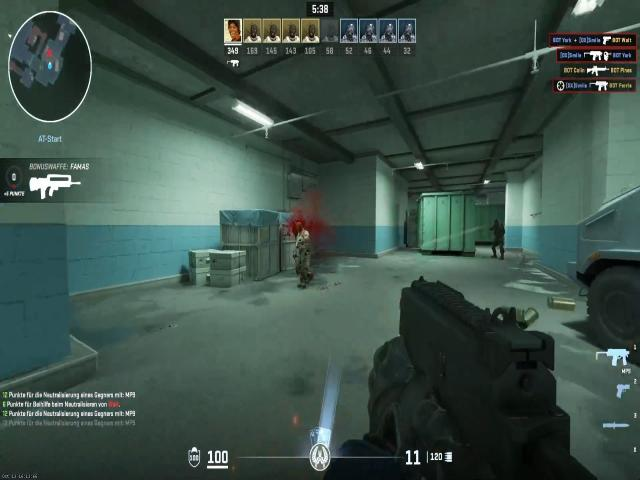CT: (490, 213, 507, 255)
Dead: (292, 214, 316, 280)
